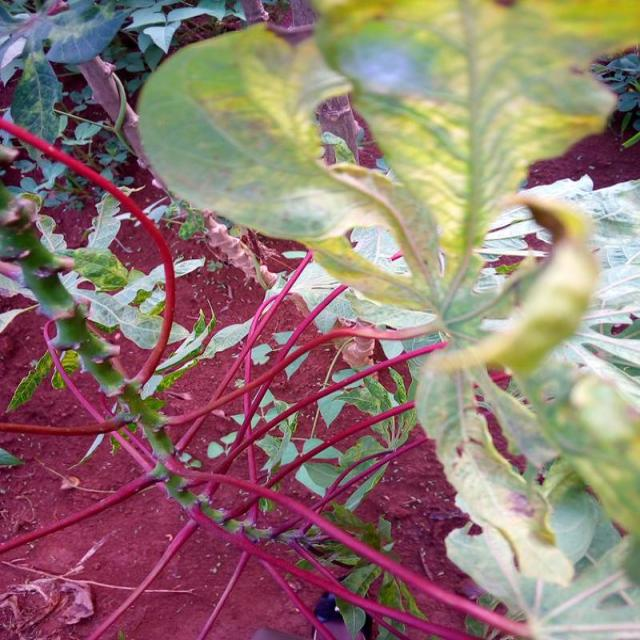cassava leaf: (133, 2, 638, 631)
